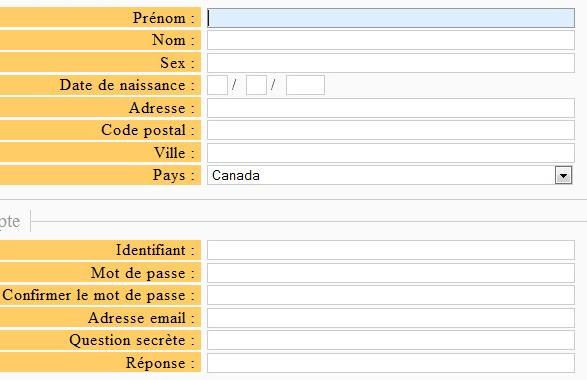field: (205, 118, 577, 142), (205, 163, 577, 187), (206, 50, 577, 74), (205, 306, 578, 329), (205, 328, 578, 351), (205, 6, 576, 29), (206, 29, 577, 52), (205, 97, 578, 119), (204, 141, 577, 163), (205, 283, 578, 305), (205, 352, 578, 374), (205, 239, 577, 261), (205, 262, 577, 284), (284, 73, 326, 96), (205, 72, 230, 96), (243, 73, 267, 96)
field_with_label: (3, 283, 580, 307), (91, 260, 579, 286), (87, 306, 579, 330), (70, 328, 579, 351), (126, 351, 580, 376), (132, 4, 578, 29), (151, 163, 579, 189), (116, 238, 578, 262), (99, 119, 578, 142), (130, 96, 579, 120), (158, 51, 579, 75), (151, 141, 579, 164), (151, 28, 578, 51), (59, 73, 230, 98)
